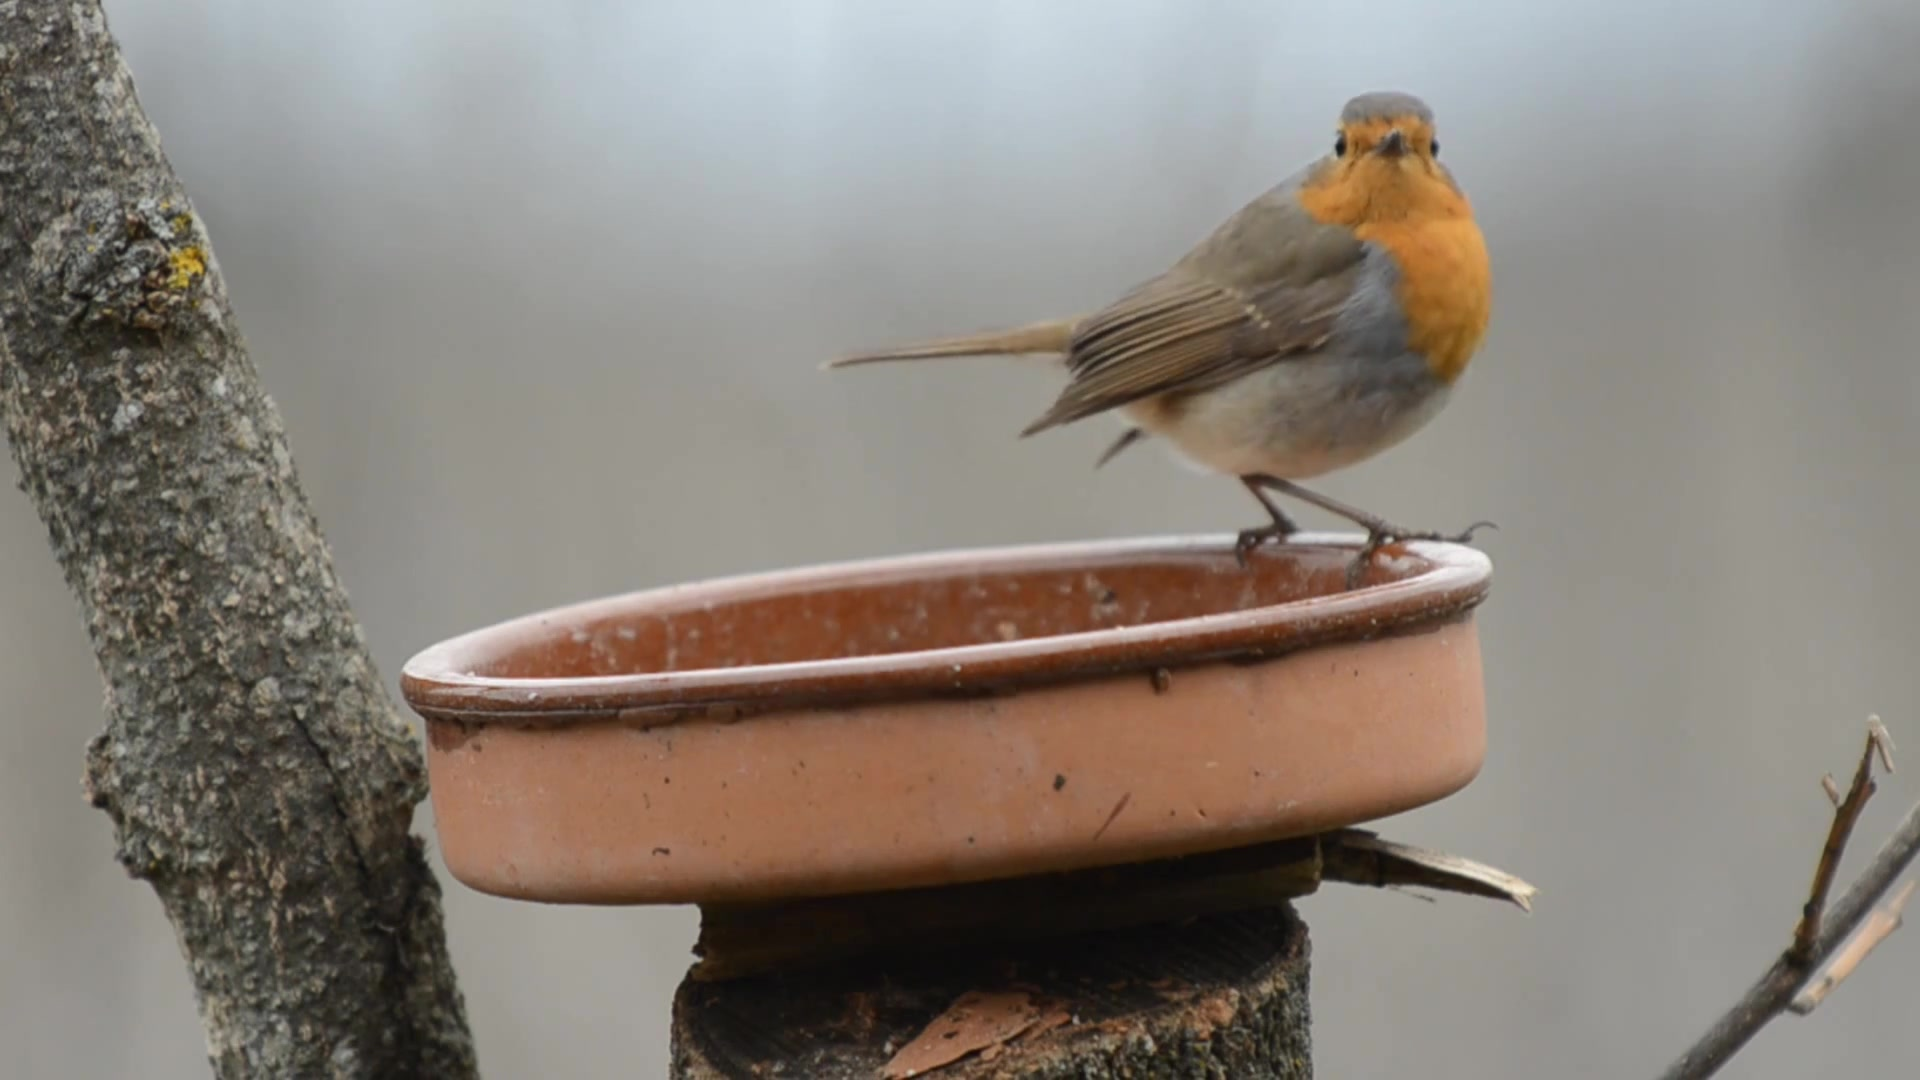bird: (824, 90, 1505, 593)
